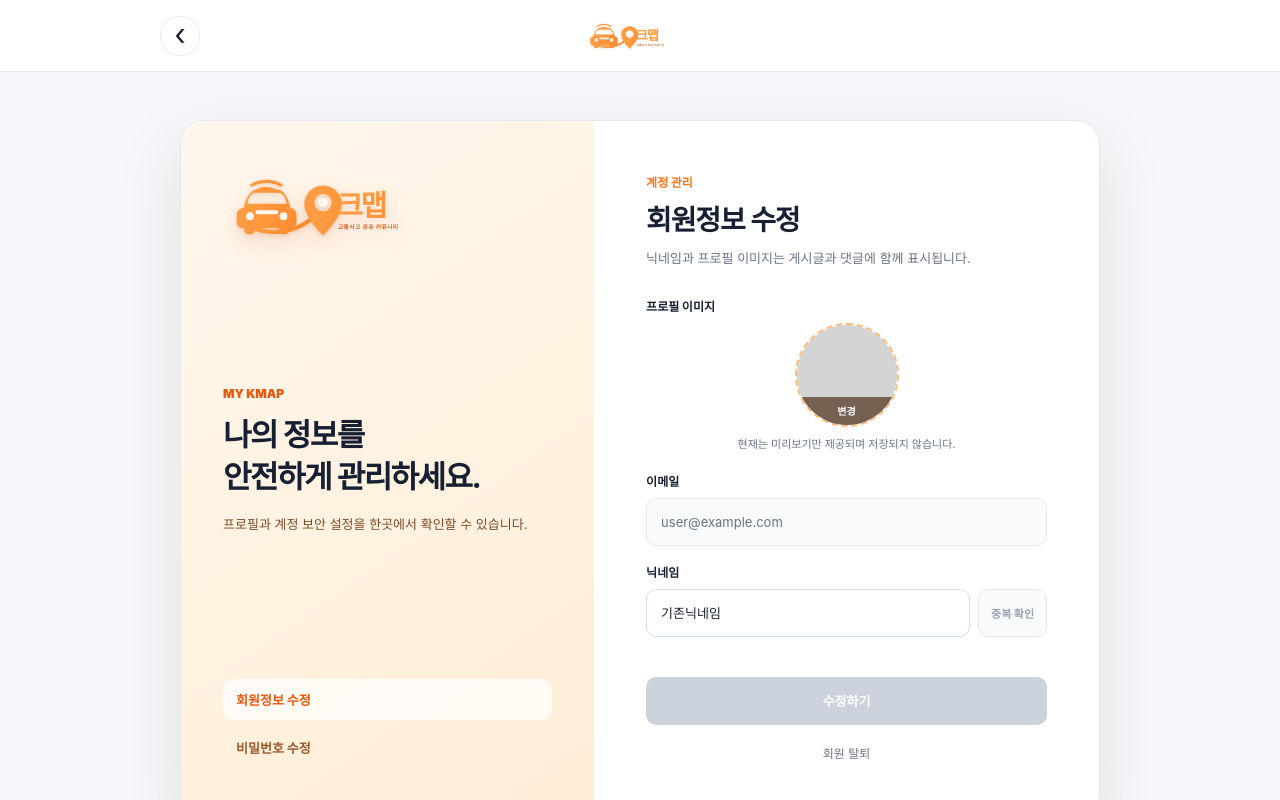
ProfileSettingsPage › 중복 확인 없이 폼을 제출하면 확인 안내를 표시한다
Replace the text in the field labelled "닉네임" with "확인필요" at (808, 613), box [646, 589, 970, 637]
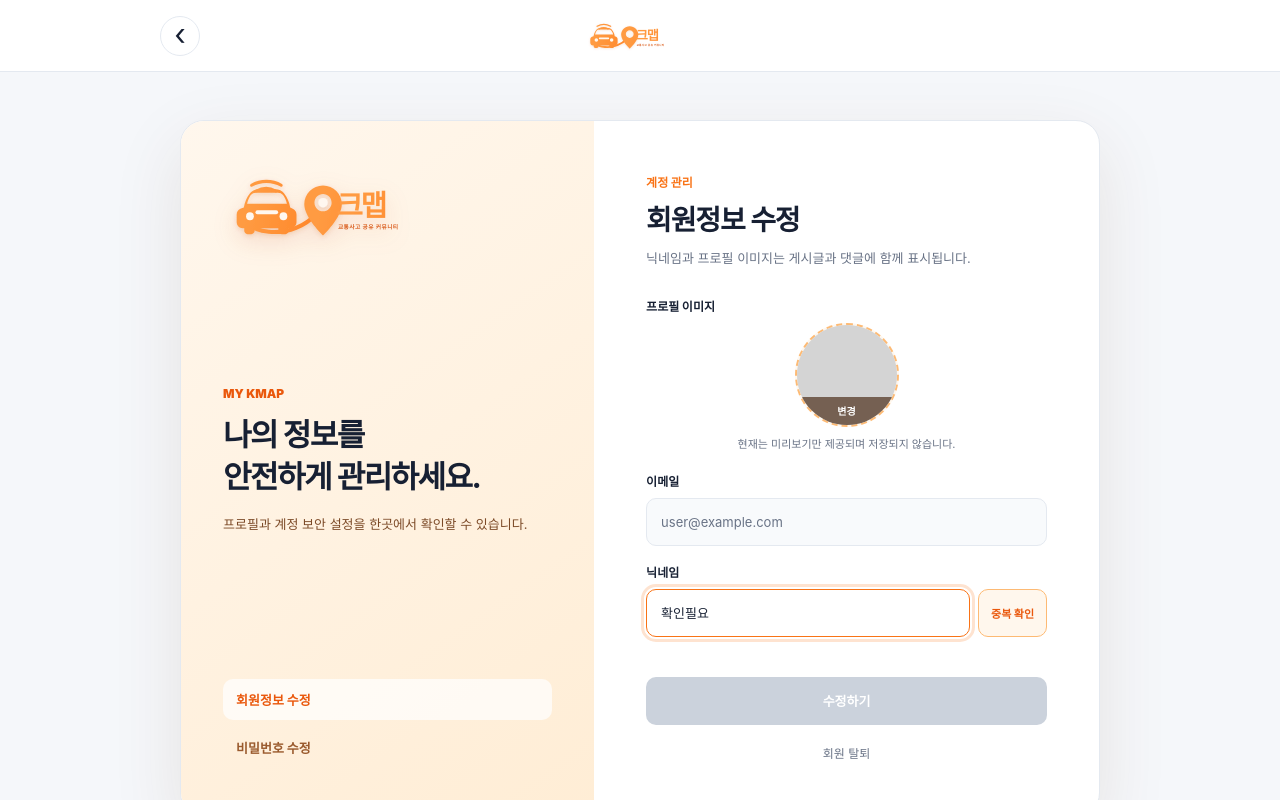
Submit the form labelled "닉네임", box [646, 297, 1047, 725]
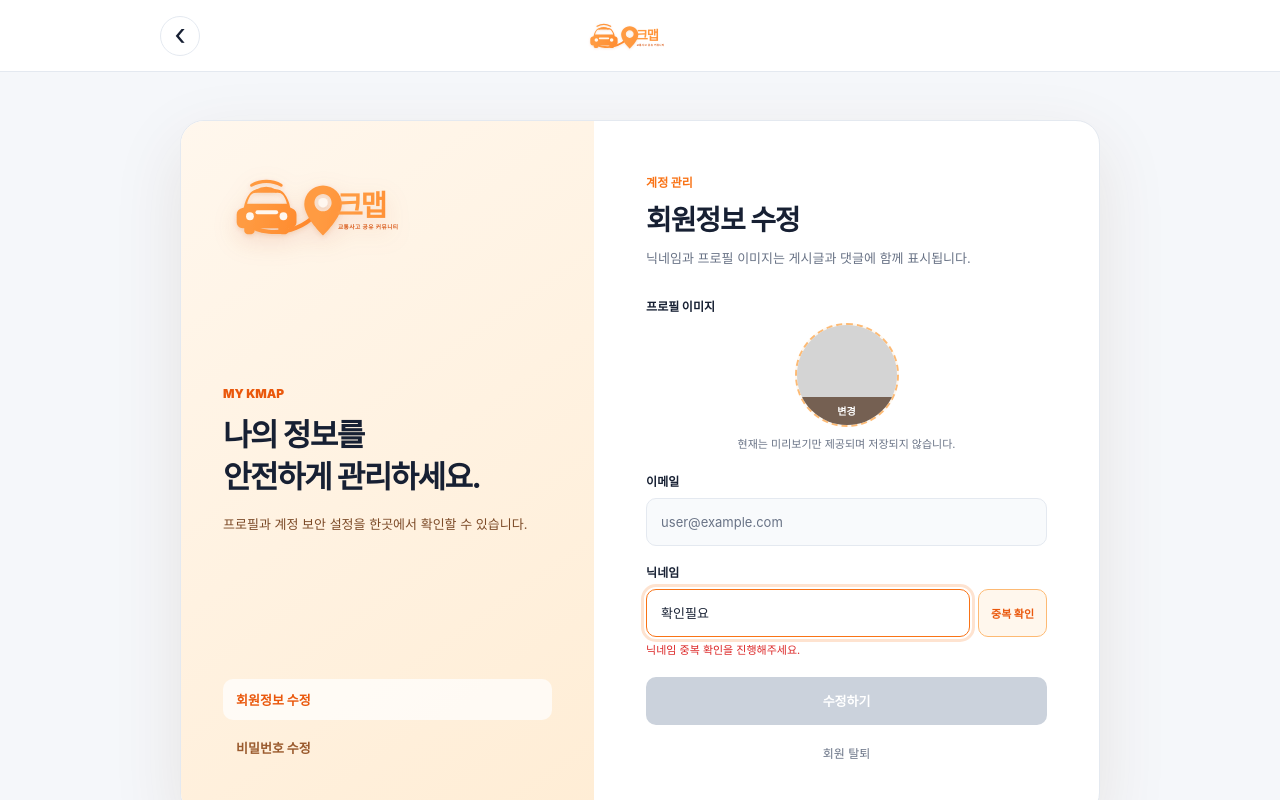
Check: the text "닉네임 중복 확인을 진행해주세요." is shown, box [646, 643, 800, 657]
